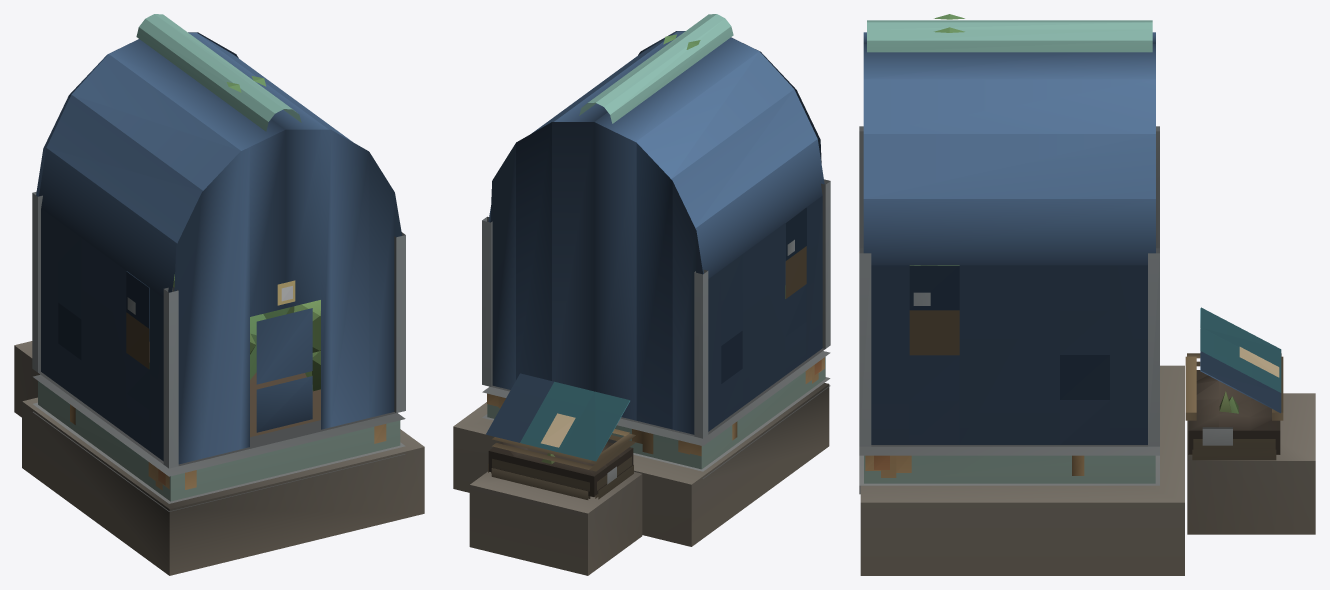
The model's file is conserv.lod.glb.
3 renders of one model, left to right at view 1: azimuth 30°, elevation 25°; view 2: azimuth 150°, elevation 25°; view 3: azimuth 270°, elevation 25°, orthographic. The views are drawn at different scales.
Visible parts, largest first — view 1: conserv; view 2: conserv; view 3: conserv.
Part boxes in pixels (bbox=[...]): conserv: bbox=[14, 14, 424, 575]; conserv: bbox=[453, 14, 830, 575]; conserv: bbox=[859, 14, 1315, 575].
Size of the model in its own units: 4.98 by 8.1 by 6.98.
